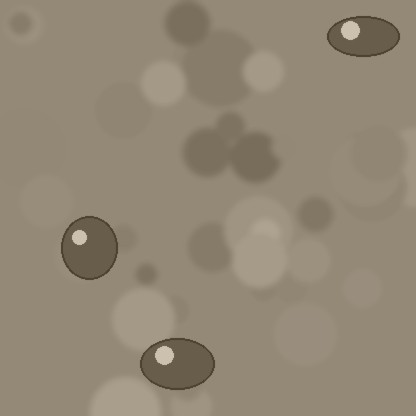gota: (140, 340, 214, 394), (61, 218, 117, 284), (327, 18, 399, 60)
